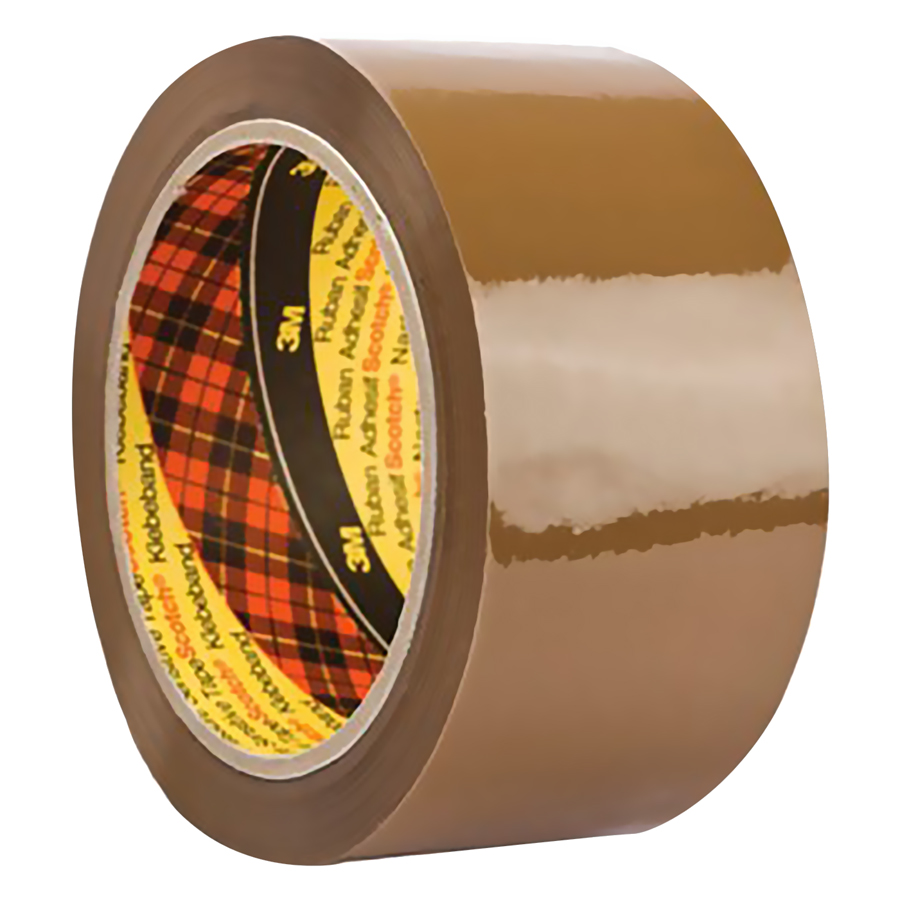3M: (269, 295, 309, 363), (331, 520, 376, 577)
